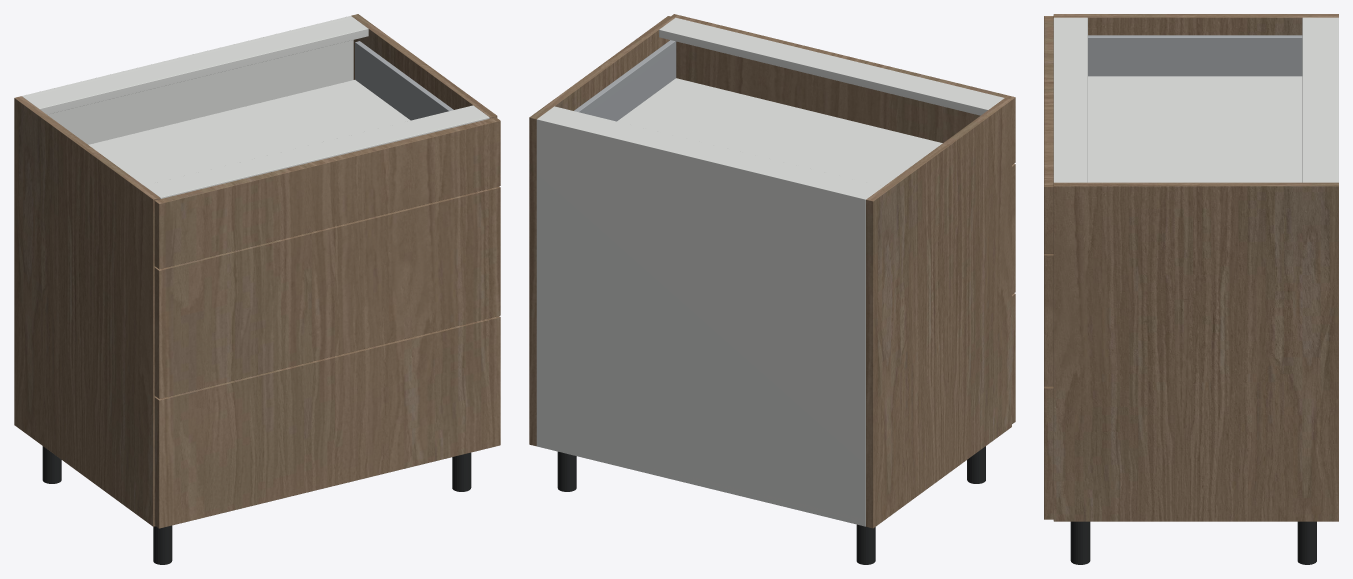
File: oppein-pb-mnw-3db33.glb
3 views of the same model, side by side, from view 1: azimuth 30°, elevation 25°; view 2: azimuth 150°, elevation 25°; view 3: azimuth 270°, elevation 25° (orthographic). The views are drawn at different scales.
Parts seen in each view (by area): view 1: Cabinet side, Drawer front, Drawer front.001, Drawer front.002, Drawer floor.002, Cabinet back, Top support rail, Top support rail.001, Drawer side.005, Cabinet side.001, Adjustable foot.001, Adjustable foot.003 (+1 smaller); view 2: Cabinet back, Cabinet side, Drawer floor.002, Drawer front.002, Top support rail.001, Cabinet side.001, Top support rail, Drawer side.005, Adjustable foot, Adjustable foot.002; view 3: Cabinet side.001, Drawer floor.002, Drawer side.004, Top support rail.001, Top support rail, Cabinet side, Drawer front.002, Drawer front, Drawer front.001, Cabinet back, Adjustable foot.003, Adjustable foot.002.
Part boxes in pixels (left/top/right/bottom): Cabinet side: left=14, top=96, right=160, bottom=526; Drawer front: left=154, top=316, right=500, bottom=528; Drawer front.001: left=154, top=186, right=500, bottom=398; Drawer front.002: left=154, top=117, right=500, bottom=269; Drawer floor.002: left=88, top=80, right=410, bottom=185; Cabinet back: left=22, top=16, right=353, bottom=144; Top support rail: left=24, top=17, right=368, bottom=114; Top support rail.001: left=144, top=105, right=489, bottom=198; Drawer side.005: left=355, top=41, right=453, bottom=120; Cabinet side.001: left=351, top=14, right=497, bottom=118; Adjustable foot.001: left=153, top=525, right=172, bottom=564; Adjustable foot.003: left=452, top=452, right=471, bottom=491; Cabinet back: left=536, top=117, right=867, bottom=526; Cabinet side: left=866, top=98, right=1011, bottom=528; Drawer floor.002: left=617, top=78, right=942, bottom=186; Drawer front.002: left=671, top=14, right=1015, bottom=164; Top support rail.001: left=659, top=17, right=1004, bottom=115; Cabinet side.001: left=529, top=16, right=674, bottom=446; Top support rail: left=540, top=106, right=883, bottom=198; Drawer side.005: left=574, top=40, right=676, bottom=121; Adjustable foot: left=856, top=524, right=875, bottom=564; Adjustable foot.002: left=557, top=451, right=576, bottom=491; Cabinet side.001: left=1053, top=182, right=1338, bottom=521; Drawer floor.002: left=1088, top=76, right=1302, bottom=182; Drawer side.004: left=1088, top=35, right=1302, bottom=76; Top support rail.001: left=1053, top=17, right=1087, bottom=182; Top support rail: left=1302, top=17, right=1333, bottom=182; Cabinet side: left=1053, top=14, right=1338, bottom=35; Drawer front.002: left=1044, top=16, right=1053, bottom=253; Drawer front: left=1044, top=386, right=1053, bottom=519; Drawer front.001: left=1044, top=254, right=1053, bottom=386; Cabinet back: left=1333, top=17, right=1338, bottom=182; Adjustable foot.003: left=1070, top=521, right=1090, bottom=564; Adjustable foot.002: left=1297, top=521, right=1316, bottom=564.
Bounding box in the file's own units: 0.8382 × 0.8763 × 0.6064.
Materials: 4 (1 with a texture image).
